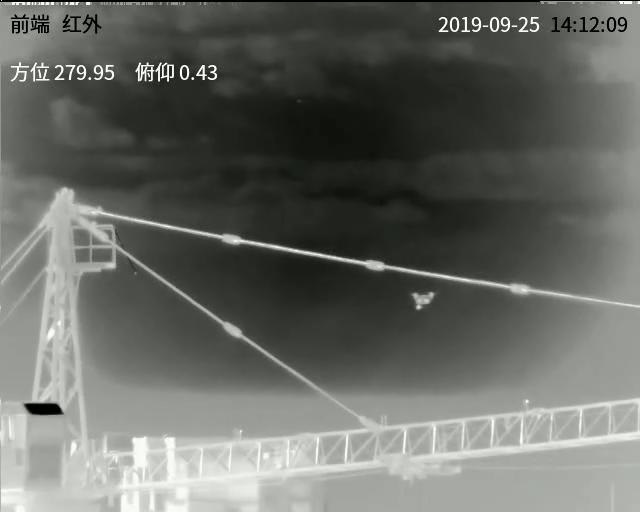uav: (409, 289, 436, 312)
